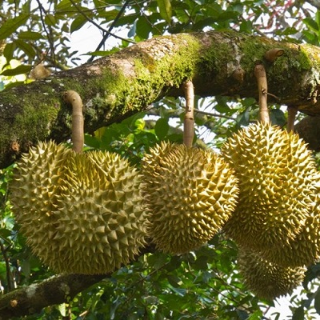sau_rieng: (10, 136, 153, 285), (221, 116, 318, 253), (142, 133, 241, 261)
